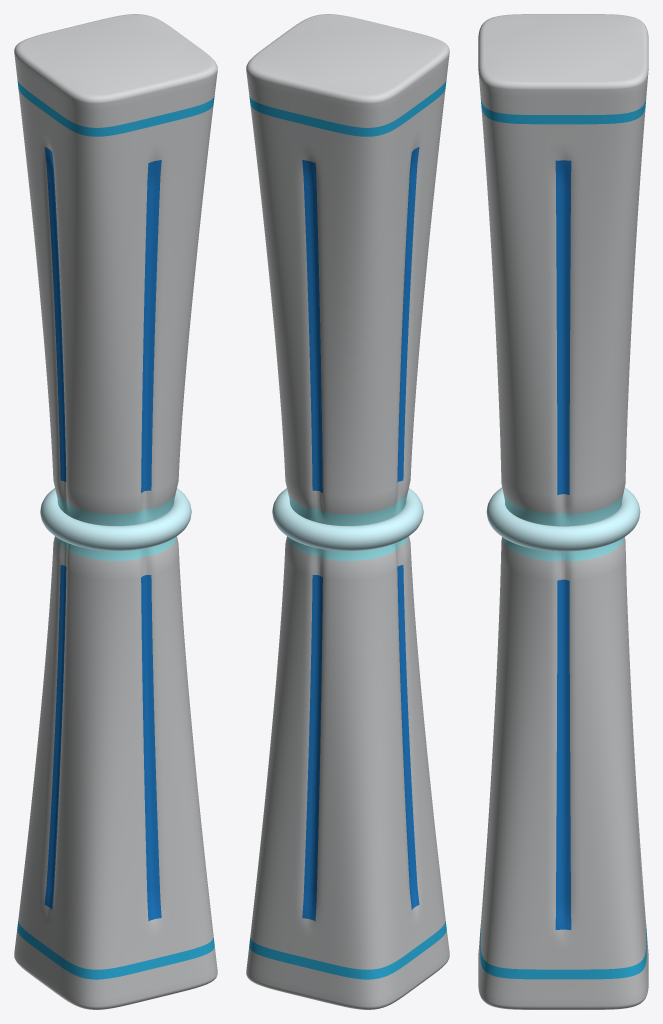
Rendered from Pillar_D05_HourglassGlow.fbx.
3 renders of one model, left to right at view 1: azimuth 30°, elevation 25°; view 2: azimuth 150°, elevation 25°; view 3: azimuth 270°, elevation 25°, orthographic.
Visible parts, largest first — view 1: Pillar_D05_HourglassGlow; view 2: Pillar_D05_HourglassGlow; view 3: Pillar_D05_HourglassGlow.
Boxes of the visible parts, x1,y1,x2,y2 form: Pillar_D05_HourglassGlow: [14, 14, 217, 1009]; Pillar_D05_HourglassGlow: [246, 14, 449, 1009]; Pillar_D05_HourglassGlow: [478, 14, 648, 1009].
Size of the model in its own units: 0.6664 by 4 by 0.6664.
